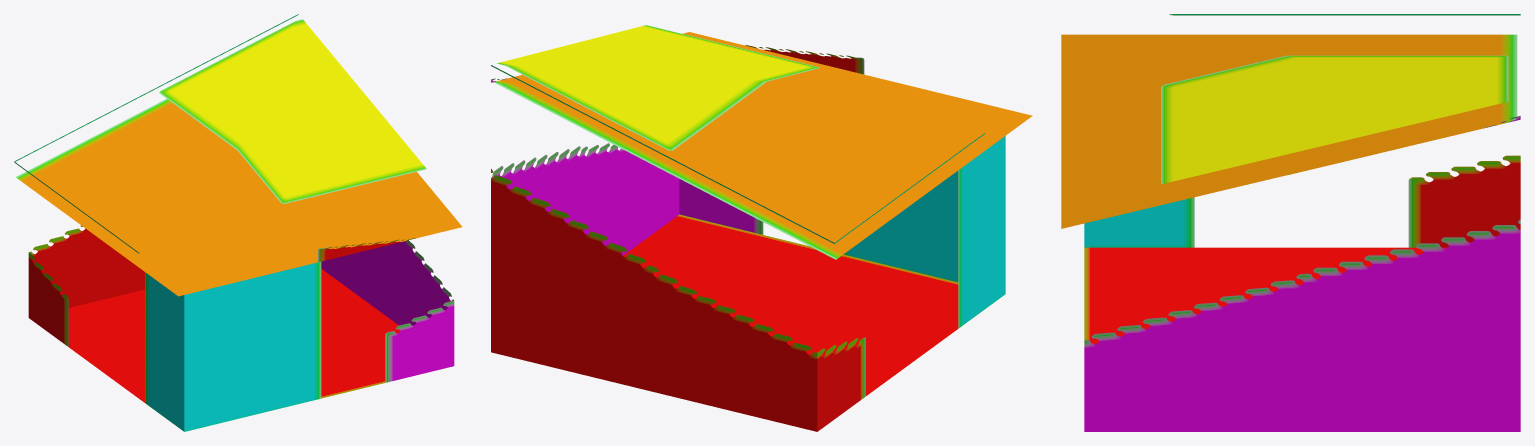
The model's file is house06.FBX.
3 views of the same model, side by side, from view 1: azimuth 30°, elevation 25°; view 2: azimuth 150°, elevation 25°; view 3: azimuth 270°, elevation 25° (orthographic). The views are drawn at different scales.
Visible parts, largest first — view 1: Object001, Box001; view 2: Box001, Object001; view 3: Box001, Object001.
Boxes of the visible parts, left/top/right/bottom form: Object001: left=14, top=14, right=462, bottom=296; Box001: left=28, top=225, right=454, bottom=431; Box001: left=491, top=136, right=1005, bottom=431; Object001: left=491, top=25, right=1032, bottom=259; Box001: left=1084, top=155, right=1520, bottom=431; Object001: left=1061, top=14, right=1520, bottom=228.
Size of the model in its own units: 100 by 80 by 100.
